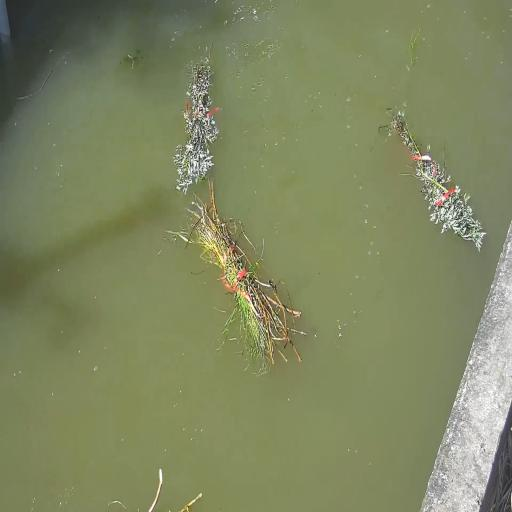twig: (169, 182, 301, 369), (379, 111, 486, 251), (173, 46, 221, 194)
